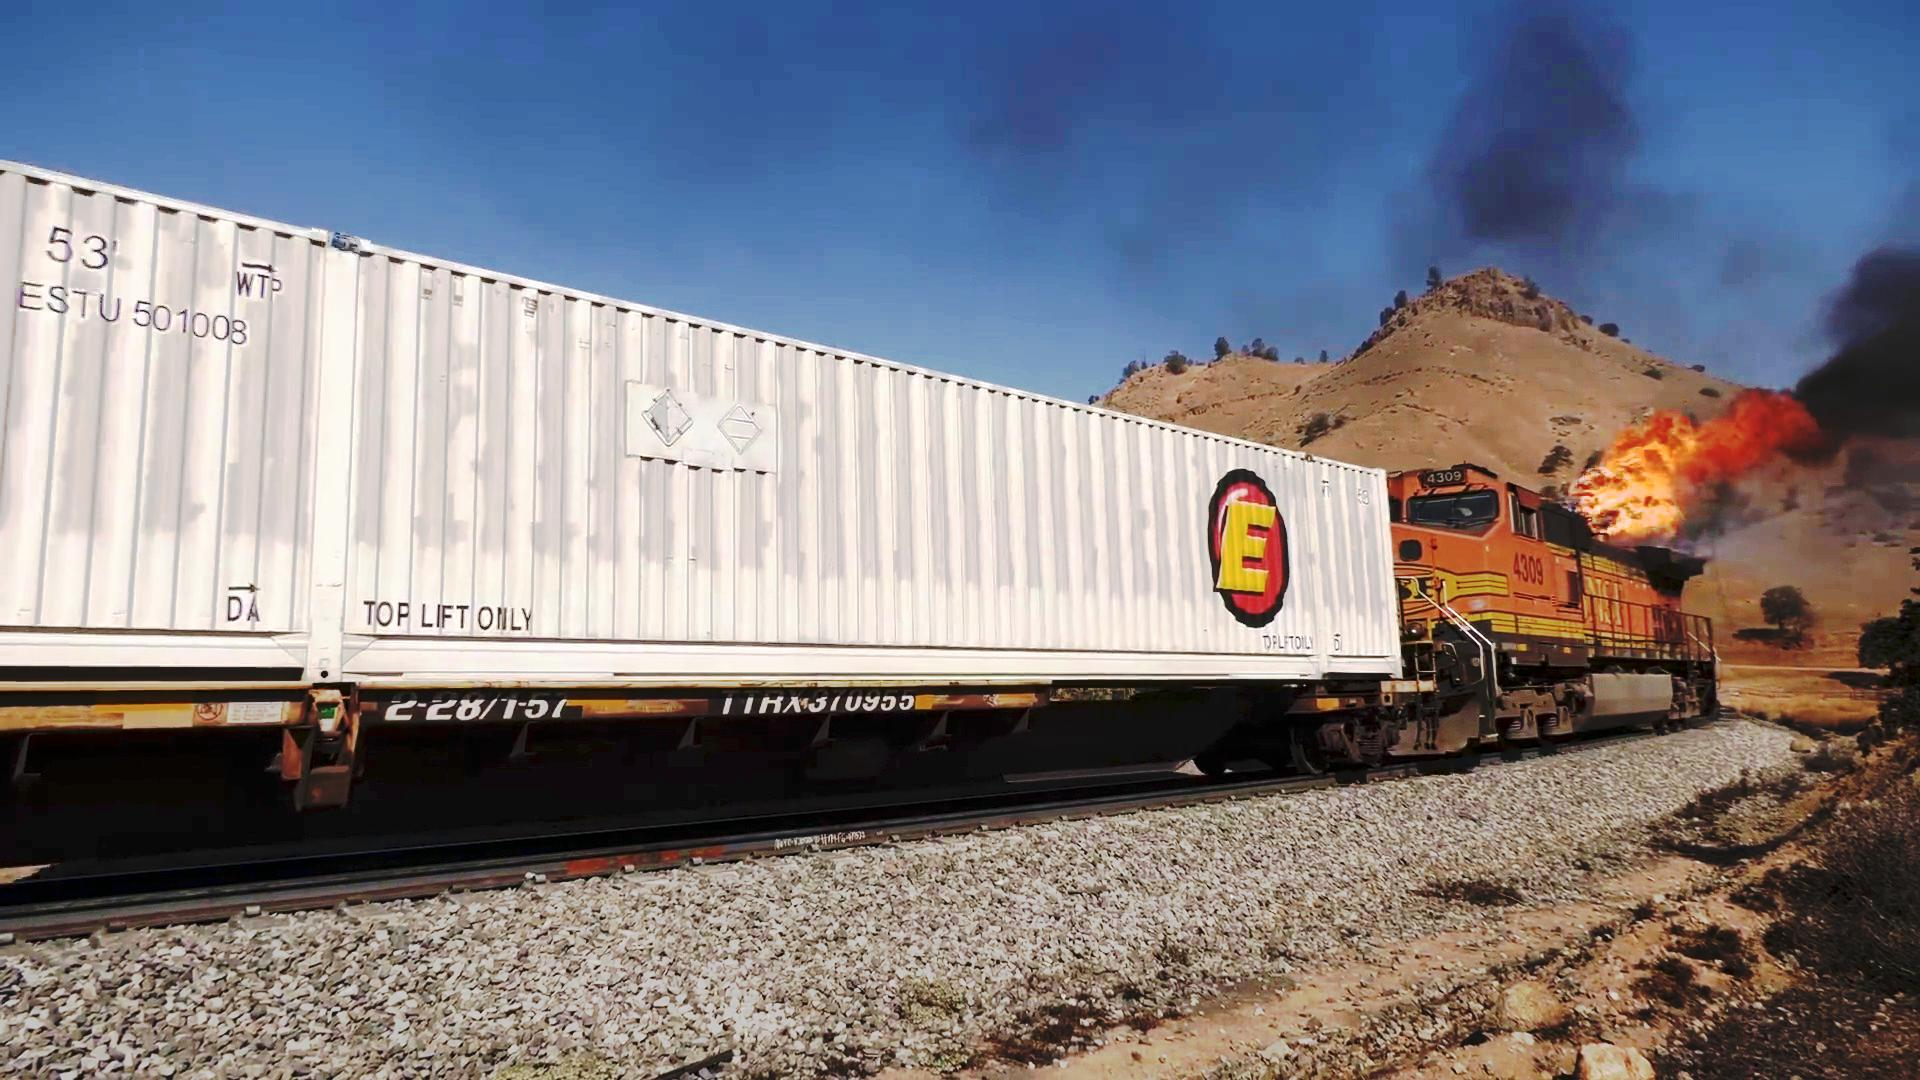fire: (1578, 390, 1683, 546), (1667, 373, 1816, 464)
smoke: (1398, 13, 1655, 235), (1828, 233, 1920, 464)
